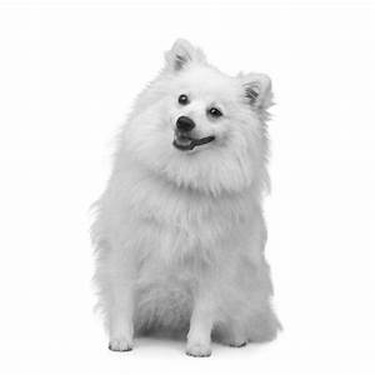dog: (78, 32, 286, 358)
